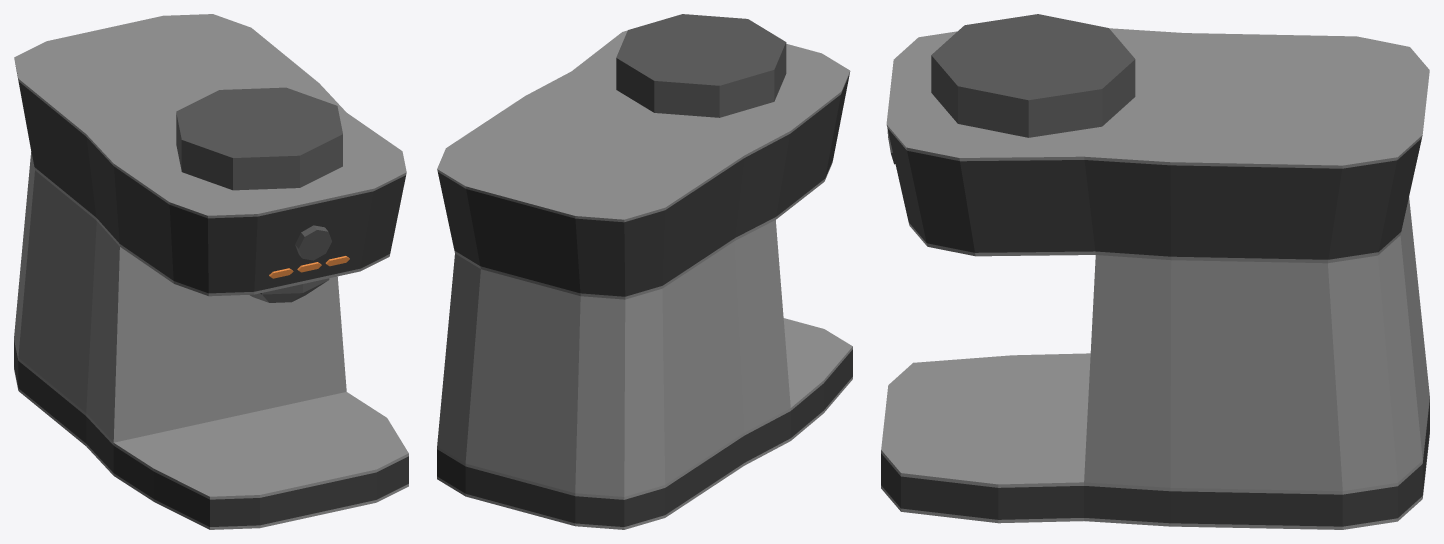
Rendered from CoffeeMachine.fbx.
3 views of the same model, side by side, from view 1: azimuth 30°, elevation 25°; view 2: azimuth 150°, elevation 25°; view 3: azimuth 270°, elevation 25° (orthographic). The views are drawn at different scales.
Visible parts, largest first — view 1: CoffeeMachine; view 2: CoffeeMachine; view 3: CoffeeMachine.
Part boxes in pixels (bbox=[...]): CoffeeMachine: bbox=[14, 14, 408, 529]; CoffeeMachine: bbox=[437, 14, 852, 529]; CoffeeMachine: bbox=[881, 14, 1429, 529].
Size of the model in its own units: 40.23 by 67.6 by 54.65.
